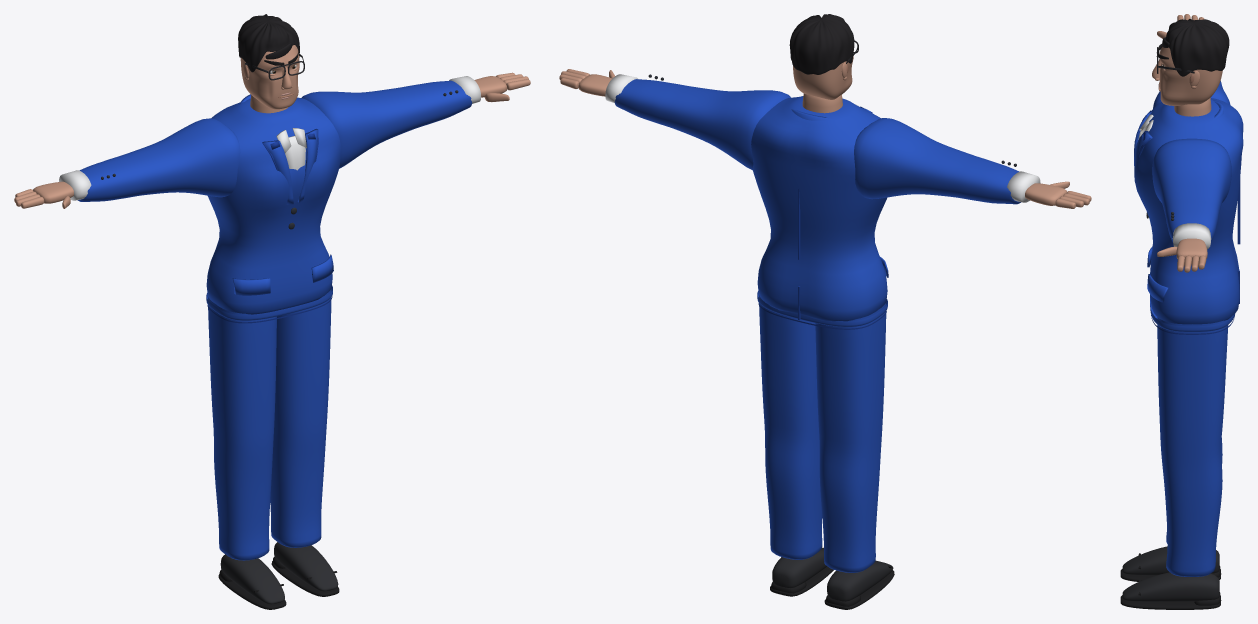
File: bigman_model_v001.glb
3 views of the same model, side by side, from view 1: azimuth 30°, elevation 25°; view 2: azimuth 150°, elevation 25°; view 3: azimuth 270°, elevation 25° (orthographic). The views are drawn at different scales.
Parts seen in each view (by area): view 1: Suit_Torso.001, Trouser_R.001, Trouser_L.001, Sleeve_R.001, Sleeve_L.001, Hair_Mass.001, Head.001, Shoe_Upper_R.001, Shoe_Upper_L.001, Jacket_Hem.001; view 2: Suit_Torso.001, Trouser_R.001, Trouser_L.001, Sleeve_R.001, Sleeve_L.001, Hair_Mass.001, Shoe_Upper_R.001, Head.001, Shoe_Upper_L.001, Jacket_Hem.001; view 3: Trouser_L.001, Suit_Torso.001, Sleeve_L.001, Hair_Mass.001, Shoe_Upper_L.001, Head.001, Shoe_Upper_R.001, Shoe_Sole_L.001, Shirt_Cuff_L.001, Jacket_Hem.001, Hand_Palm_L.001, Neck.001 (+5 smaller).
Boxes of the visible parts, x1,y1,x2,y2 form: Suit_Torso.001: [206, 97, 340, 314]; Trouser_R.001: [208, 297, 276, 560]; Trouser_L.001: [270, 288, 331, 547]; Sleeve_R.001: [77, 118, 240, 201]; Sleeve_L.001: [301, 80, 472, 168]; Hair_Mass.001: [238, 14, 299, 72]; Head.001: [240, 45, 299, 109]; Shoe_Upper_R.001: [220, 554, 284, 604]; Shoe_Upper_L.001: [274, 542, 338, 591]; Jacket_Hem.001: [206, 285, 332, 320]; Suit_Torso.001: [751, 96, 887, 321]; Trouser_R.001: [815, 302, 886, 572]; Trouser_L.001: [759, 295, 822, 559]; Sleeve_R.001: [854, 118, 1020, 204]; Sleeve_L.001: [614, 79, 790, 170]; Hair_Mass.001: [789, 14, 854, 74]; Shoe_Upper_R.001: [827, 560, 893, 601]; Head.001: [793, 56, 853, 99]; Shoe_Upper_L.001: [772, 547, 826, 587]; Jacket_Hem.001: [757, 291, 887, 326]; Trouser_L.001: [1157, 317, 1228, 576]; Suit_Torso.001: [1134, 98, 1243, 324]; Sleeve_L.001: [1152, 138, 1231, 241]; Hair_Mass.001: [1165, 19, 1229, 76]; Shoe_Upper_L.001: [1122, 572, 1219, 601]; Head.001: [1159, 46, 1222, 105]; Shoe_Upper_R.001: [1122, 546, 1219, 575]; Shoe_Sole_L.001: [1120, 595, 1221, 609]; Shirt_Cuff_L.001: [1172, 223, 1211, 249]; Jacket_Hem.001: [1150, 295, 1235, 331]; Hand_Palm_L.001: [1176, 238, 1207, 258]; Neck.001: [1174, 98, 1211, 116].
Bounding box in the file's own units: 1.73 × 1.8 × 0.3542.
